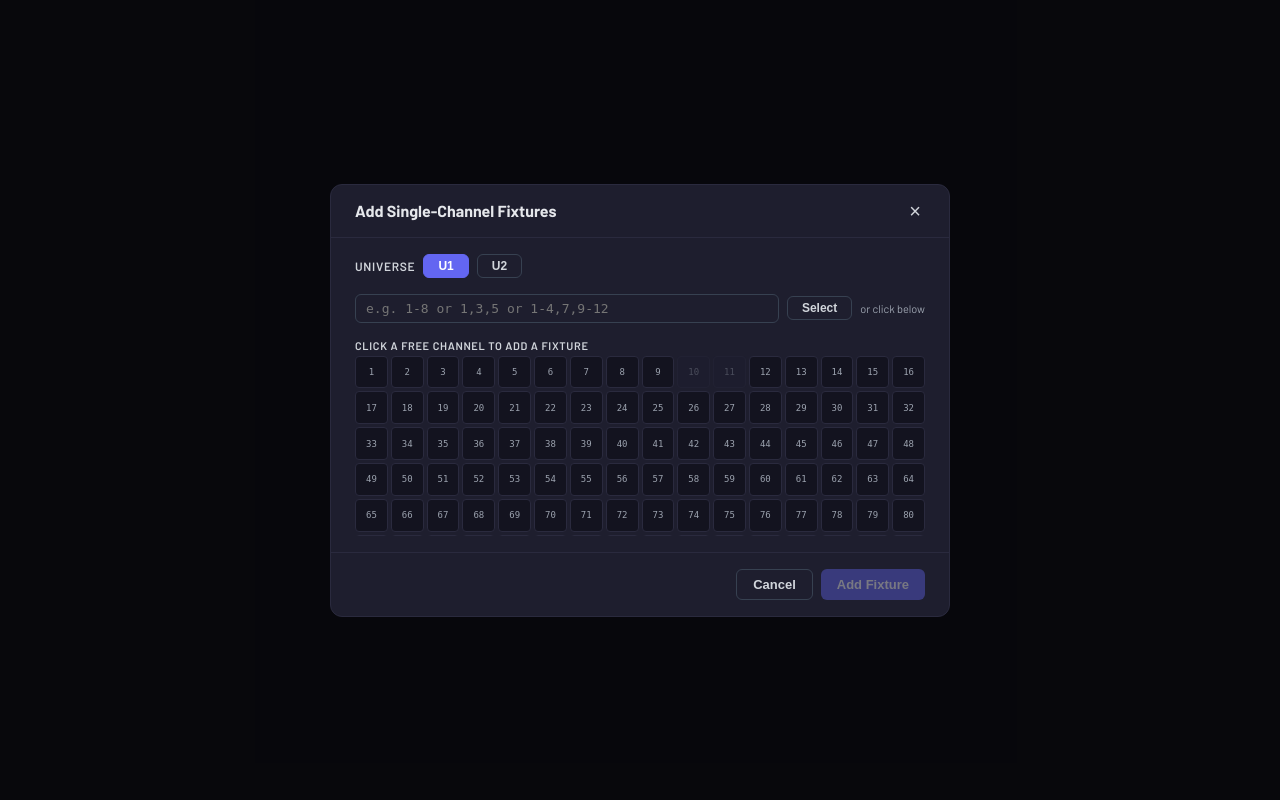
Scenario: AddSingleChannelFixturesModal › a range that overlaps used channels only selects the free ones
The width and height of the screenshot is (1280, 800).
Type "9-12" into the field with placeholder "e.g. 1-8 or 1,3,5 or 1-4,7,9-12".
click(567, 308); type("9-12")  # box [355, 294, 779, 322]
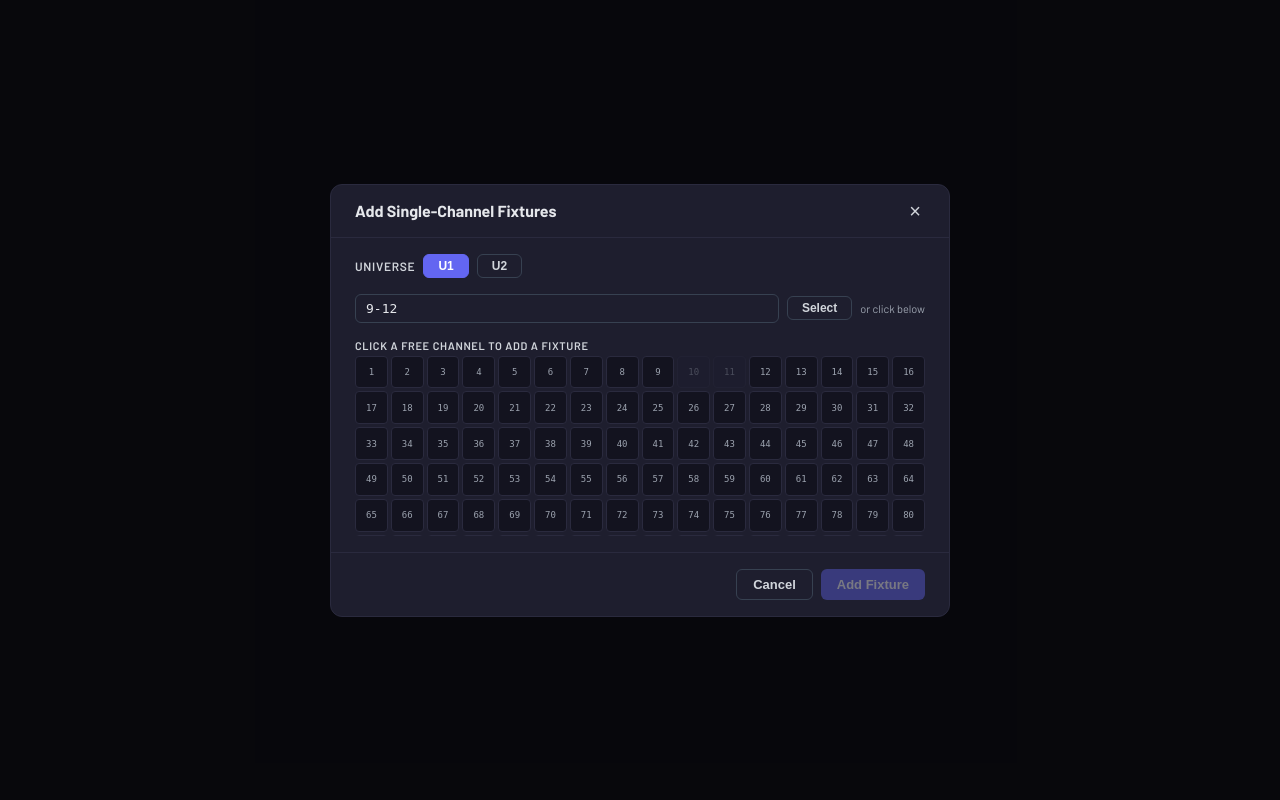
Click the button "Select".
click(820, 308)  # box [787, 296, 852, 320]
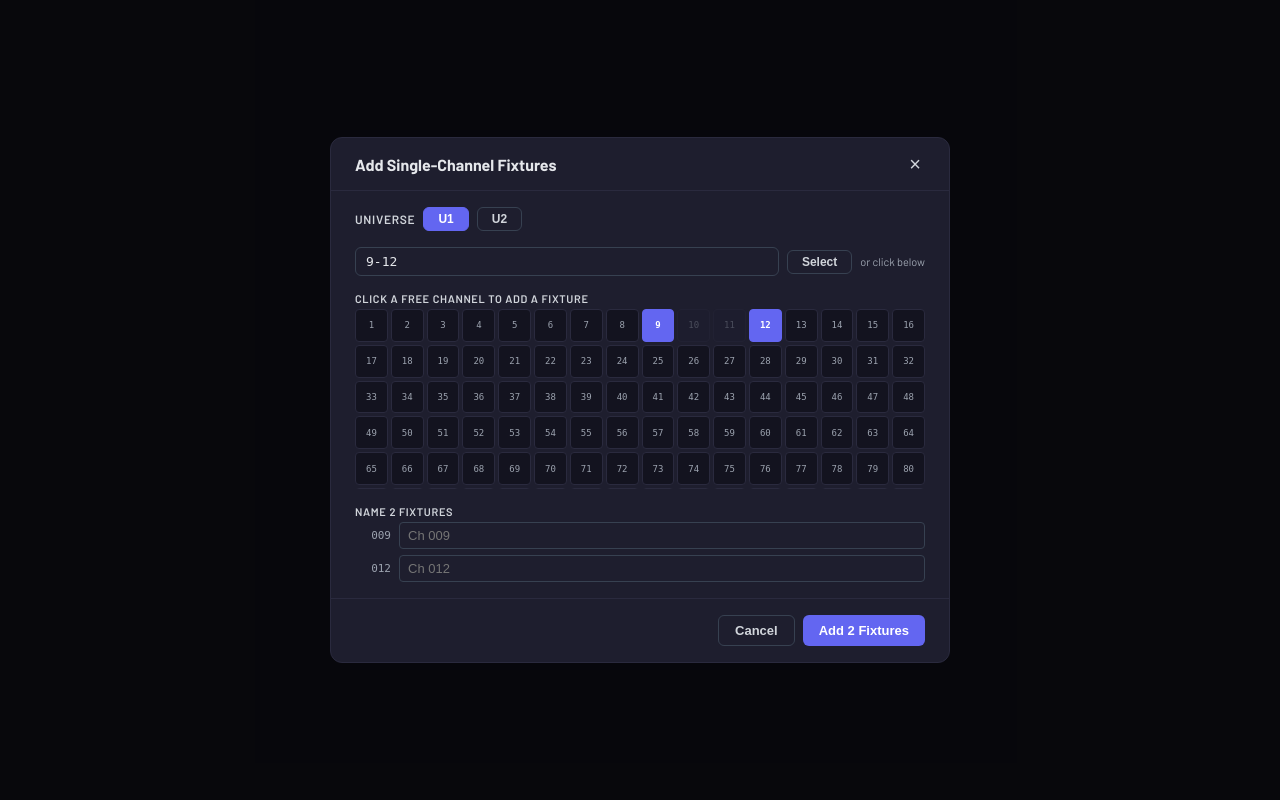
Expected: the button "Add 2 Fixtures" is shown, [803, 615, 925, 646]
